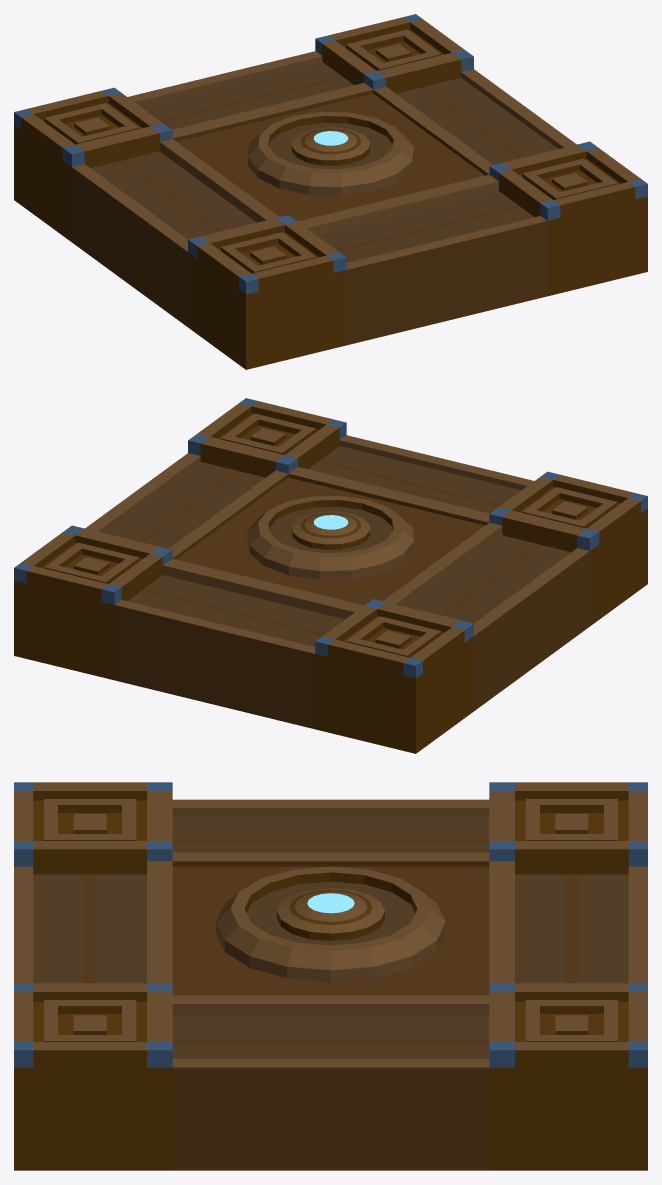
File: pressure-plate_deactivated.gltf
The picture shows the model from 3 angles, top to bottom: view 1: azimuth 30°, elevation 25°; view 2: azimuth 150°, elevation 25°; view 3: azimuth 270°, elevation 25°; orthographic projection. The views are drawn at different scales.
Parts seen in each view (by area): view 1: weight tile; view 2: weight tile; view 3: weight tile.
Boxes of the visible parts, x1,y1,x2,y2 form: weight tile: (14,14,647,369); weight tile: (14,398,647,753); weight tile: (14,782,647,1170).
Bounding box in the file's own units: 5.52 × 1.28 × 5.52.
